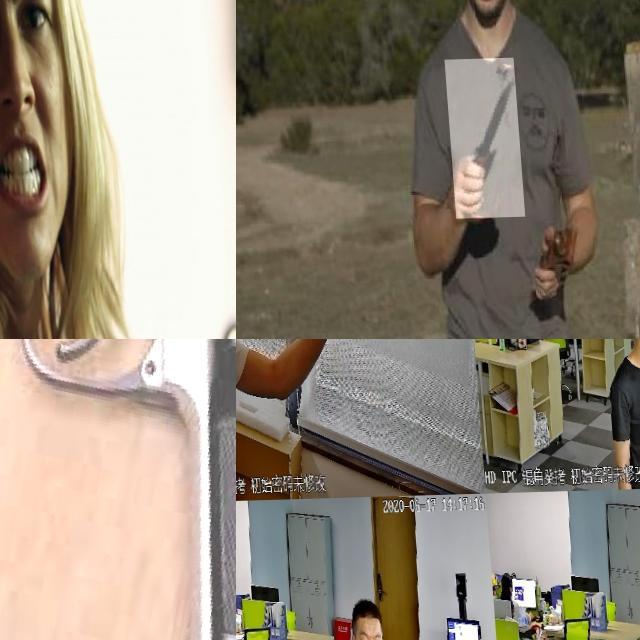-: (441, 60, 519, 220)
gun-knife-thesis - v11 Yolov5 augmented: (0, 339, 236, 640), (0, 156, 121, 339), (305, 339, 393, 390)
